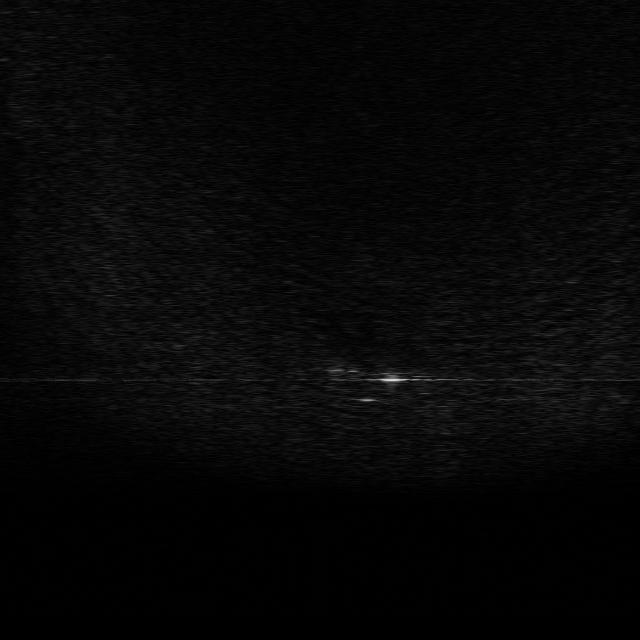plane: (321, 356, 421, 395)
